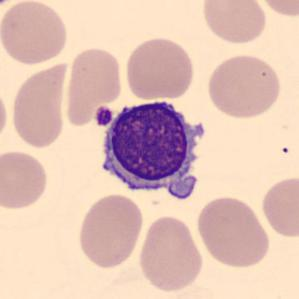Lymphocyte: (89, 93, 213, 204)
Platelets: (93, 104, 114, 128)
RBC: (194, 194, 272, 269), (136, 212, 206, 294), (9, 59, 71, 150), (75, 192, 145, 270), (204, 52, 284, 120), (123, 34, 196, 102), (64, 44, 124, 126), (0, 0, 70, 67), (199, 0, 269, 46), (0, 148, 50, 212), (259, 173, 299, 240), (255, 0, 298, 18), (0, 83, 10, 147)
